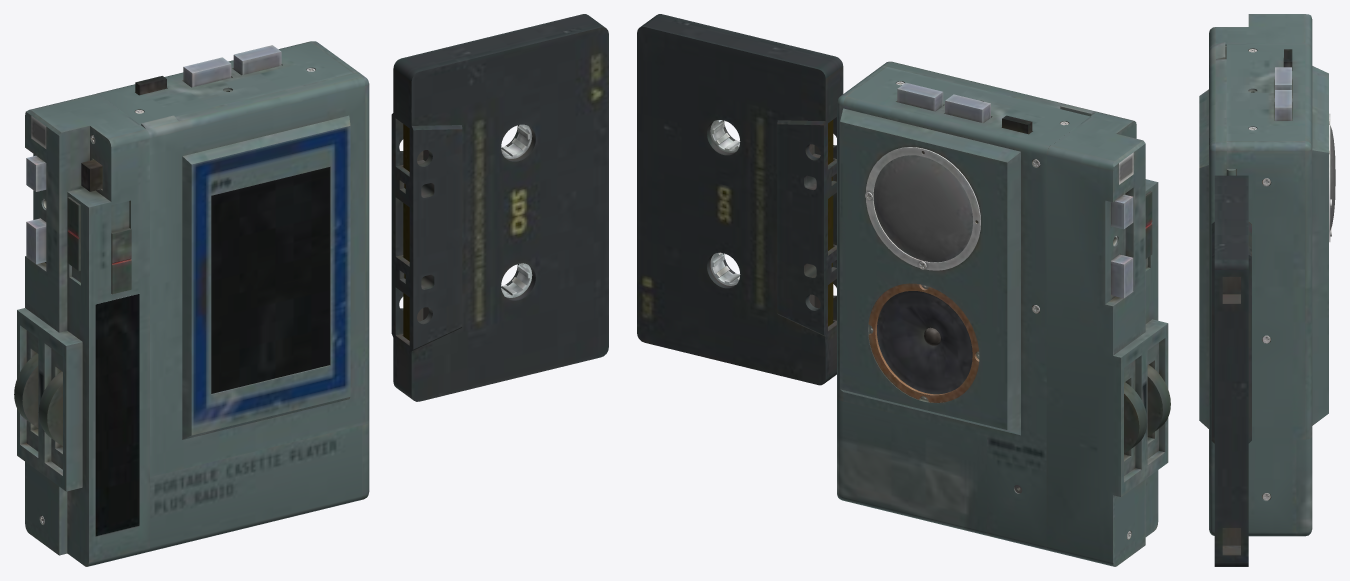
The model's file is portable_cassette_player.glb.
The picture shows the model from 3 angles, left to right: view 1: azimuth 30°, elevation 25°; view 2: azimuth 150°, elevation 25°; view 3: azimuth 270°, elevation 25°; orthographic projection. The views are drawn at different scales.
Parts seen in each view (by area): view 1: portable_cassette_player_lid; view 2: portable_cassette_player_lid; view 3: portable_cassette_player_lid.
Boxes of the visible parts, x1=… form: portable_cassette_player_lid: x1=14, y1=14, x2=608, y2=566; portable_cassette_player_lid: x1=637, y1=14, x2=1170, y2=566; portable_cassette_player_lid: x1=1199, y1=14, x2=1335, y2=566.
Bounding box in the file's own units: 0.1723 × 0.1303 × 0.0397.
Materials: 2 (2 with a texture image).
